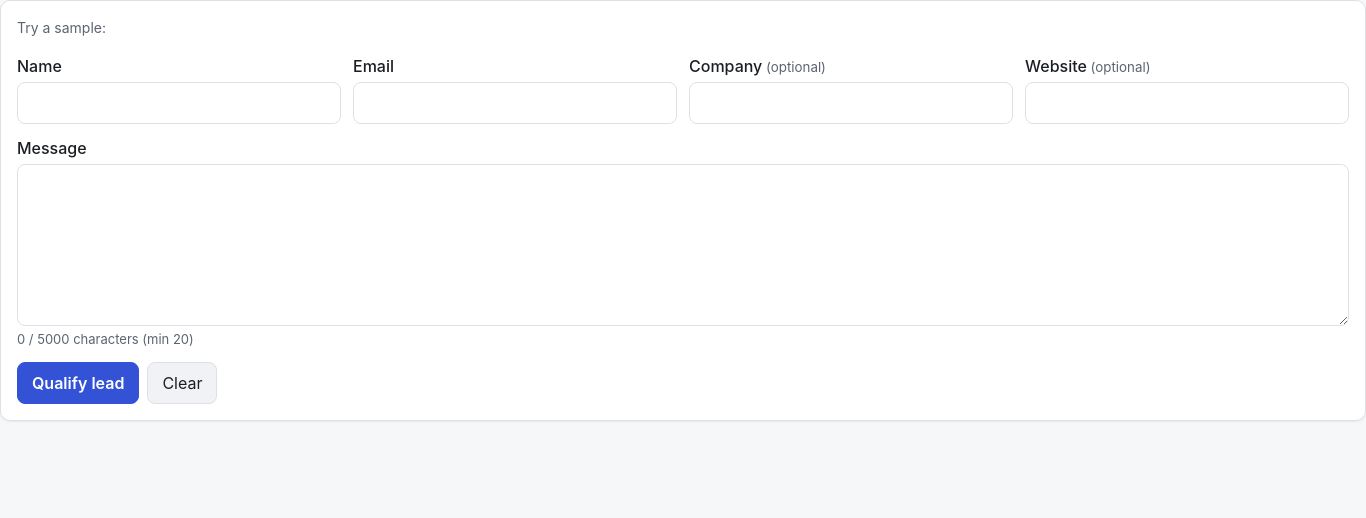
Test: LeadForm › shows server validation errors next to the fields and omits empty optional fields
Step 1. Type "Bob" into the field labelled "Name" → (179, 103), box [17,82,341,124]
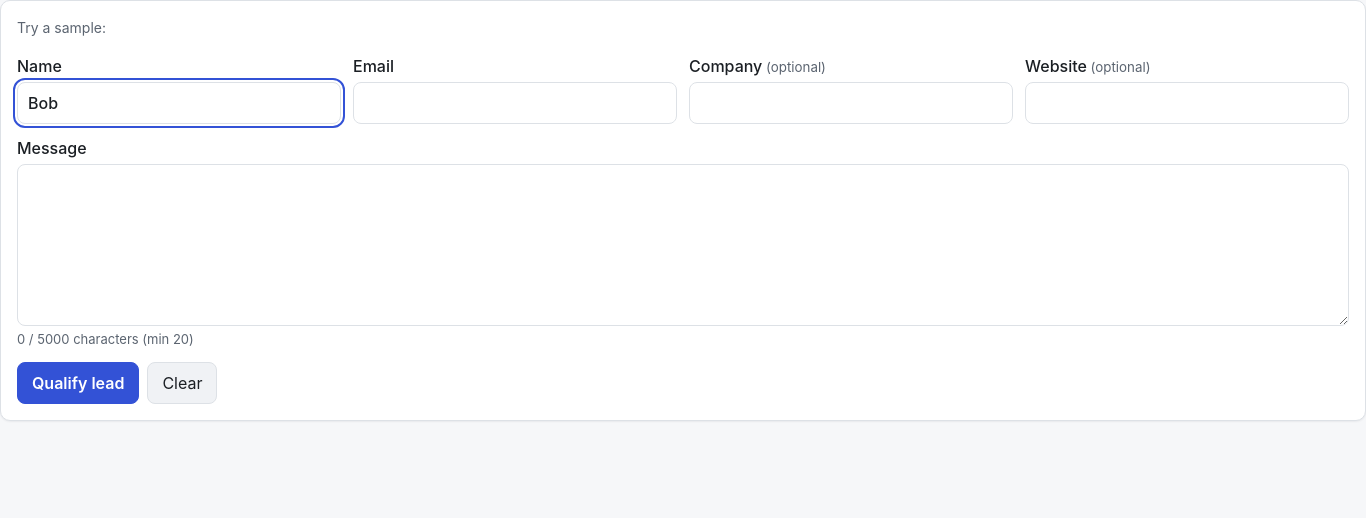
Step 2. Type "nope" into the field labelled "Email" → (515, 103), box [353,82,677,124]
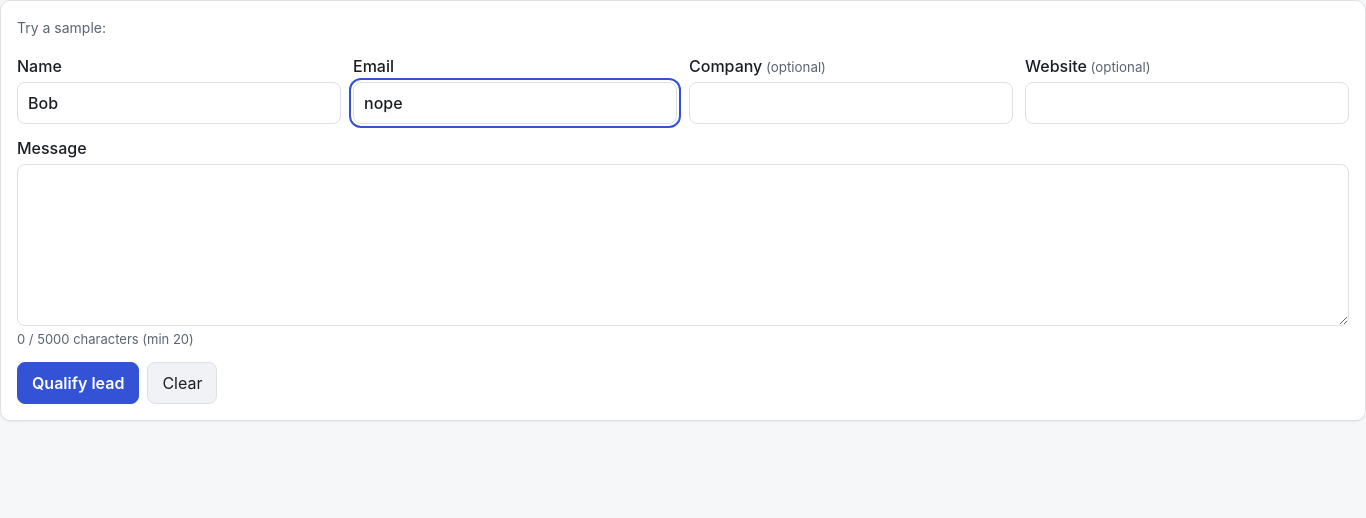
Step 3. Type "hi" into the text box labelled "Message" → (683, 245), box [17,164,1349,326]
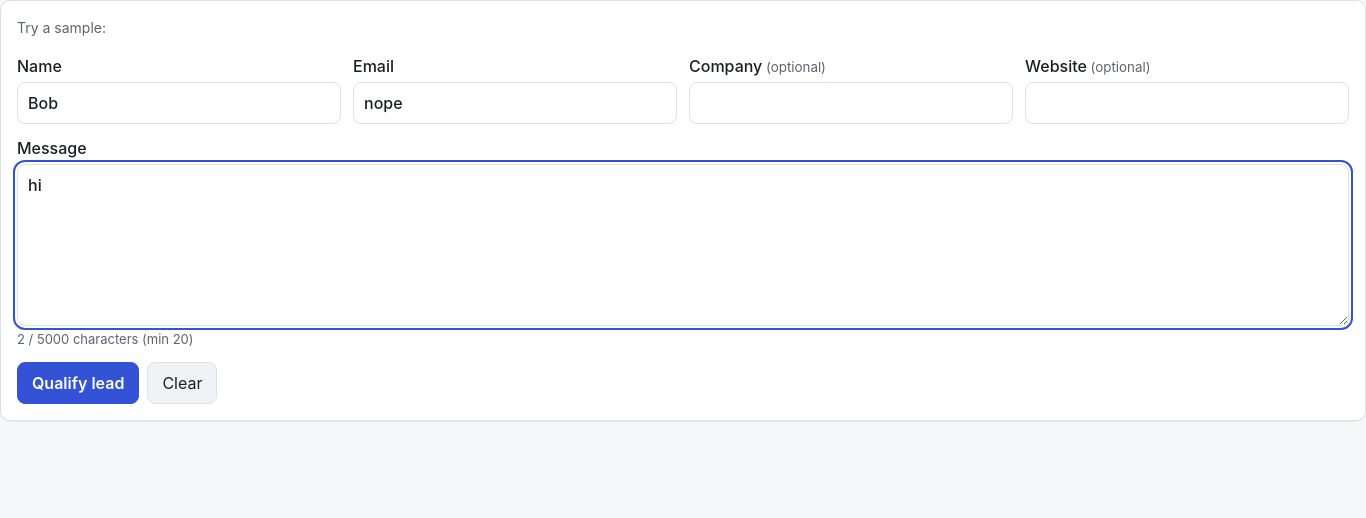
Step 4. Click the button "Qualify lead" → (78, 382), box [17,362,139,404]
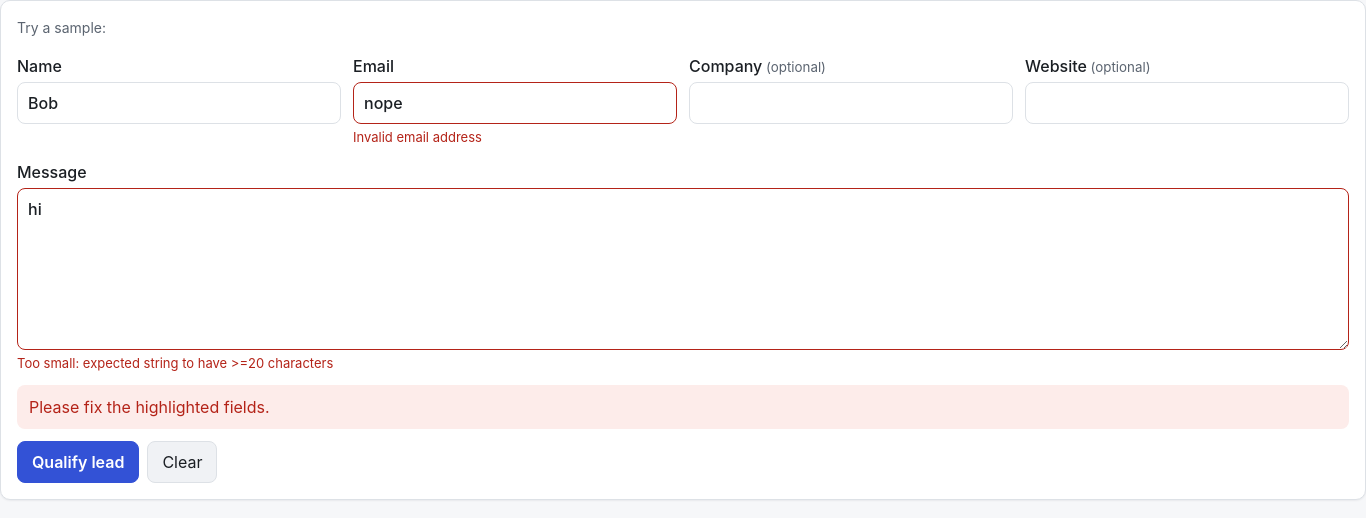
Check: the text "Invalid email address" is shown, box [353,129,482,145]
Check: the text "Too small: expected string to have >=20 characters" is shown, box [17,354,333,370]
Check: the message shows "fix the highlighted fields", box [29,397,270,417]
